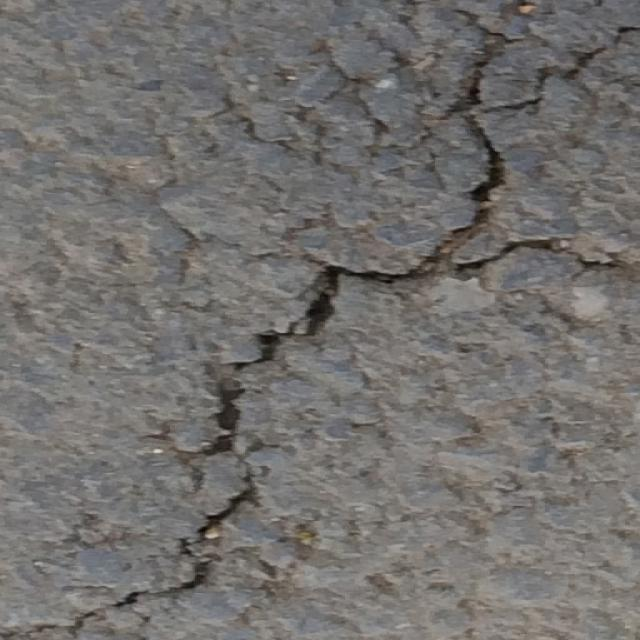Longitudinal: (2, 305, 349, 640)
Network: (336, 153, 550, 302), (435, 0, 640, 154), (555, 230, 640, 287)
